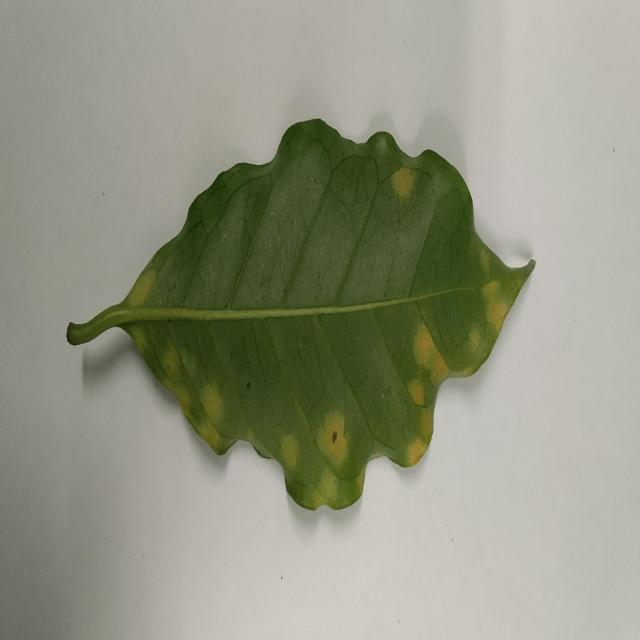Enfermedad-Roya: (65, 119, 537, 514)
